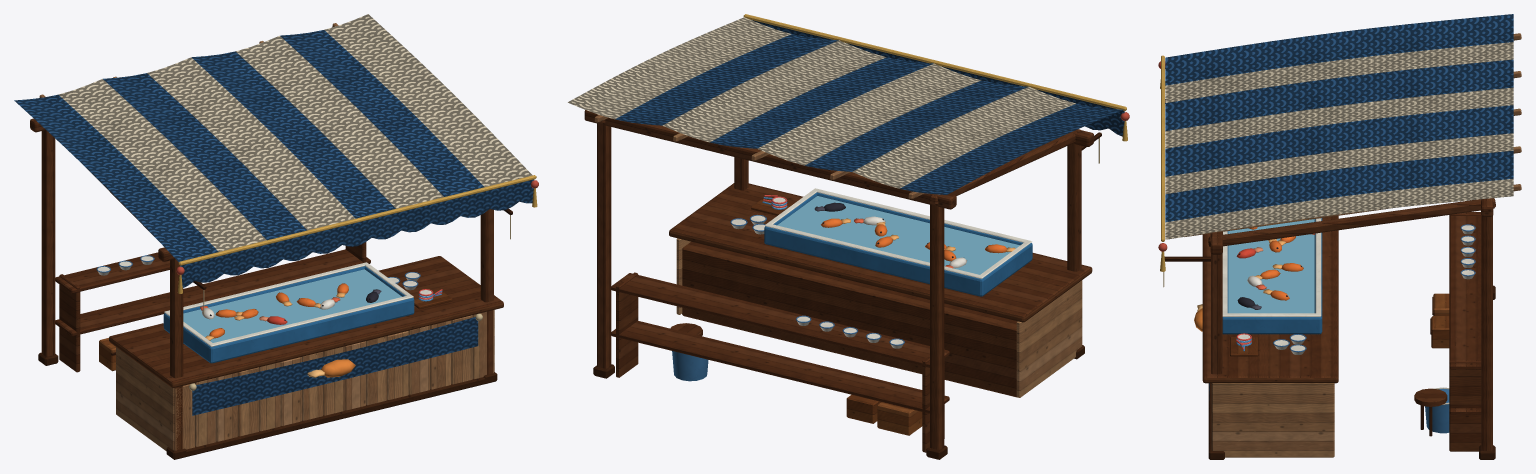
File: env_stall_fish.glb
The picture shows the model from 3 angles, left to right: view 1: azimuth 30°, elevation 25°; view 2: azimuth 150°, elevation 25°; view 3: azimuth 270°, elevation 25°; orthographic projection. The views are drawn at different scales.
Parts seen in each view (by area): view 1: env_stall_fish; view 2: env_stall_fish; view 3: env_stall_fish.
Boxes of the visible parts, <box> form: env_stall_fish: <box>14,14,538,459</box>; env_stall_fish: <box>567,14,1129,459</box>; env_stall_fish: <box>1158,14,1521,459</box>.
Size of the model in its own units: 5.3 by 3.62 by 4.38.
4 materials, 3 textured.
